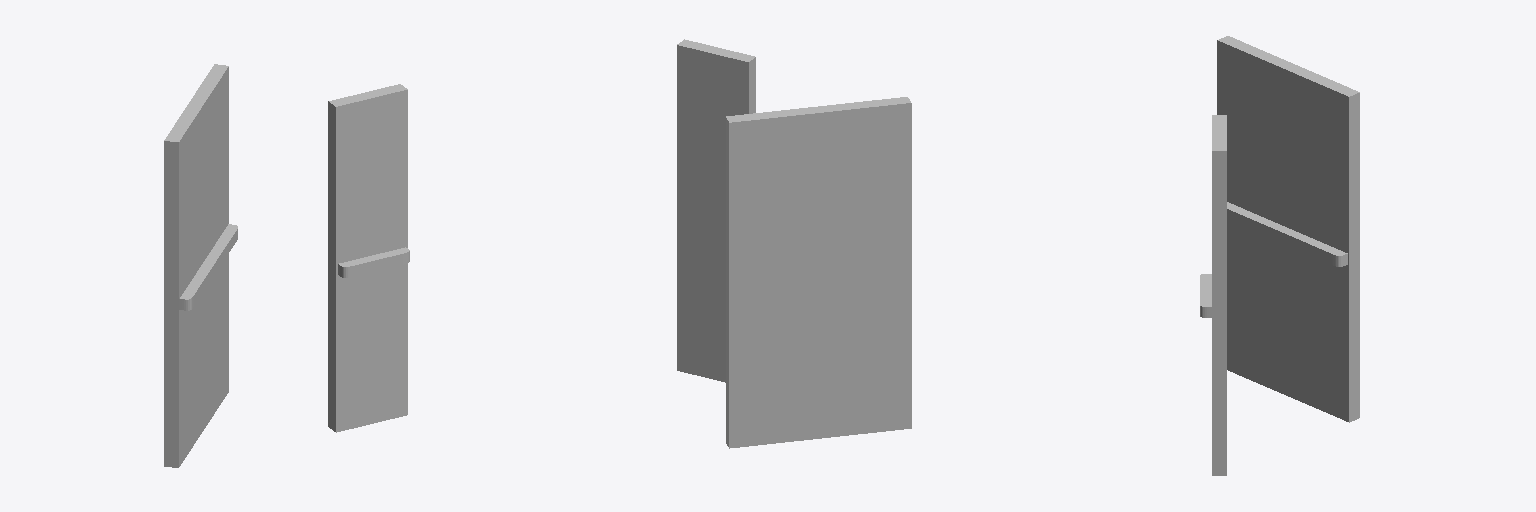
Rendered from sc3_tueren.obj.
3 renders of one model, left to right at view 1: azimuth 30°, elevation 25°; view 2: azimuth 150°, elevation 25°; view 3: azimuth 270°, elevation 25°, orthographic.
Visible parts, largest first — view 1: Tuer2, Tuer; view 2: Tuer, Tuer2; view 3: Tuer, Tuer2.
Boxes of the visible parts, x1=… form: Tuer2: x1=328, y1=84, x2=409, y2=432; Tuer: x1=164, y1=64, x2=237, y2=467; Tuer: x1=726, y1=97, x2=911, y2=448; Tuer2: x1=677, y1=39, x2=755, y2=382; Tuer: x1=1217, y1=36, x2=1359, y2=422; Tuer2: x1=1200, y1=115, x2=1226, y2=475.
Bounding box in the file's own units: 3.63 × 4.8 × 2.14.